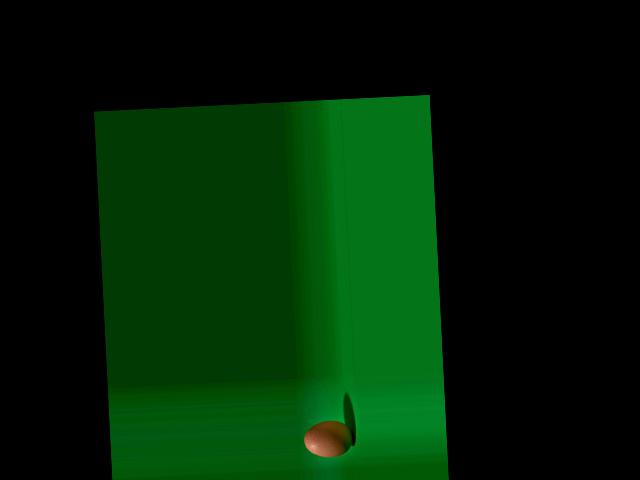egg: (303, 419, 354, 458)
